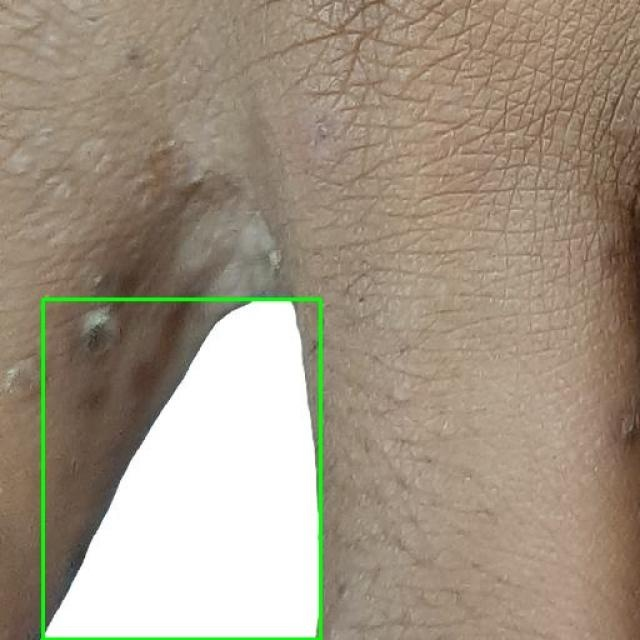Scabies: (42, 299, 320, 639)
